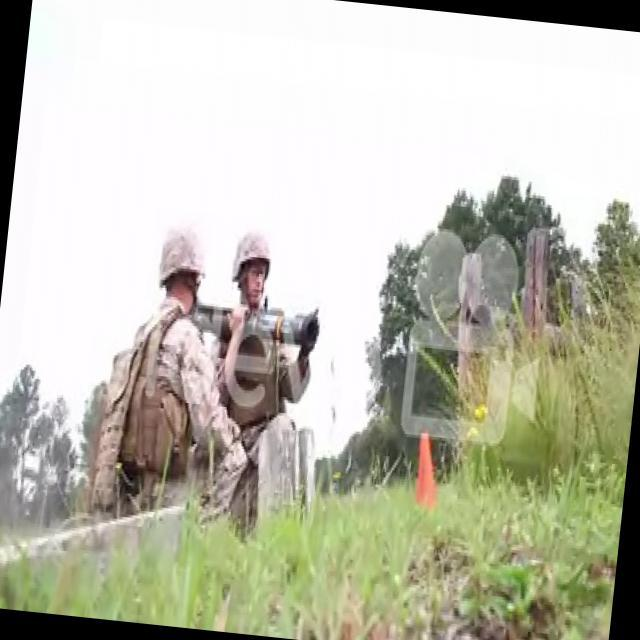rocket: (203, 298, 321, 358)
